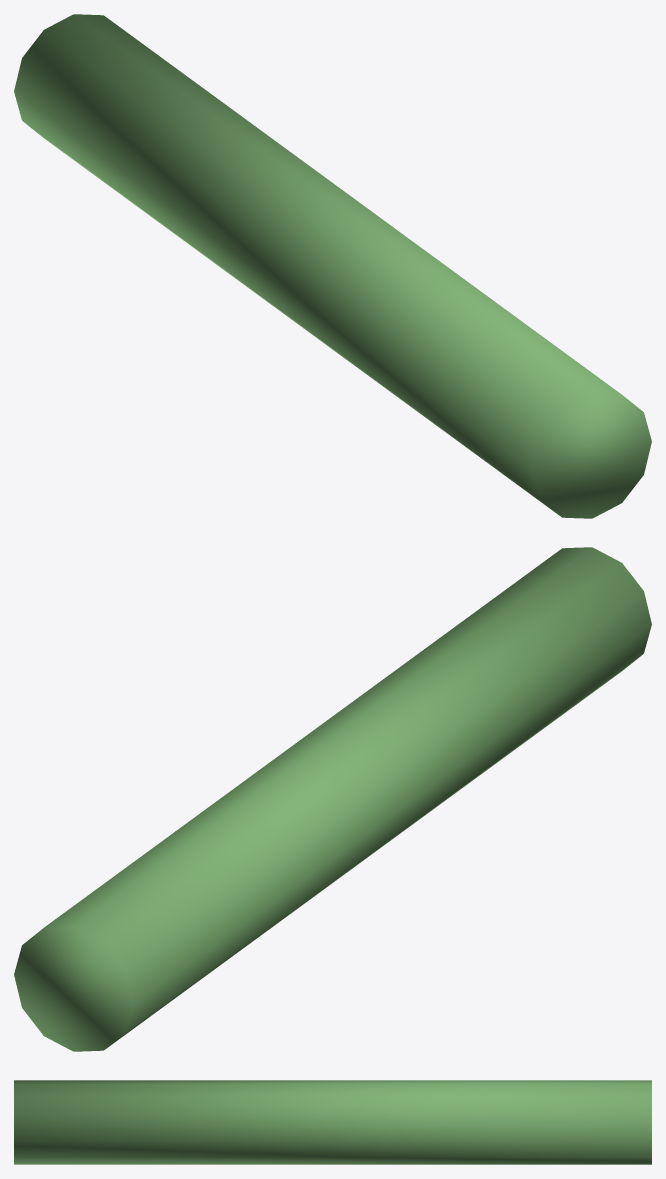
File: Connector.fbx
3 renders of one model, top to bottom at view 1: azimuth 30°, elevation 25°; view 2: azimuth 150°, elevation 25°; view 3: azimuth 270°, elevation 25°, orthographic. The views are drawn at different scales.
Parts seen in each view (by area): view 1: Cylinder; view 2: Cylinder; view 3: Cylinder.
Boxes of the visible parts, left/top/right/bottom form: Cylinder: left=14, top=14, right=651, bottom=518; Cylinder: left=14, top=547, right=651, bottom=1051; Cylinder: left=14, top=1080, right=651, bottom=1164.
Bounding box in the file's own units: 0.2664 × 0.2664 × 2.
